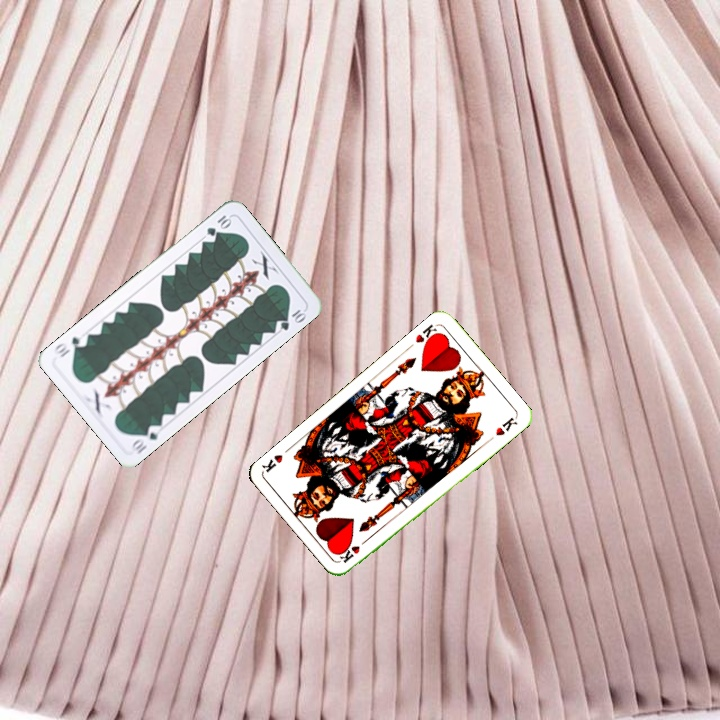G10: (126, 420, 164, 457), (203, 211, 235, 239)
HK: (336, 534, 372, 566), (411, 320, 443, 349)
